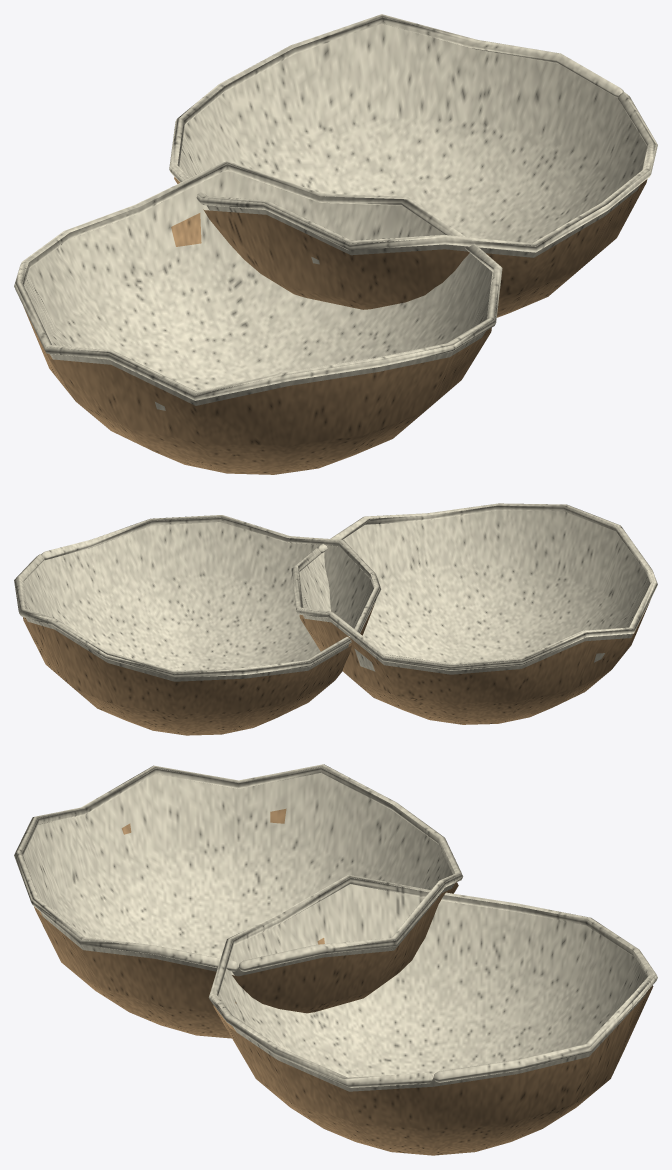
File: food-14-half.glb
The picture shows the model from 3 angles, top to bottom: view 1: azimuth 30°, elevation 25°; view 2: azimuth 150°, elevation 25°; view 3: azimuth 270°, elevation 25°; orthographic projection. The views are drawn at different scales.
Parts seen in each view (by area): view 1: Food; view 2: Food; view 3: Food.
Boxes of the visible parts, <box> form: Food: <box>14,14,657,474</box>; Food: <box>14,503,657,735</box>; Food: <box>14,764,657,1155</box>.
Bounding box in the file's own units: 0.4472 × 0.1151 × 0.3969.
1 material, 1 textured.
